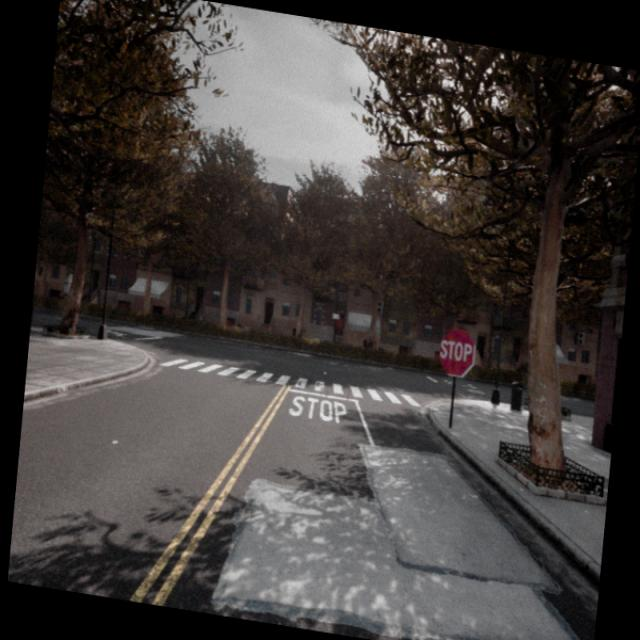stop sign: (436, 325, 477, 379), (439, 338, 473, 363)
